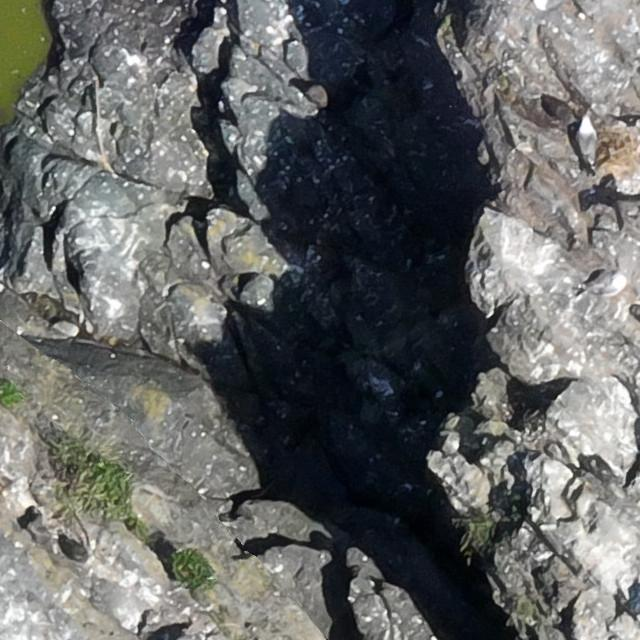umineko: (582, 273, 626, 297), (578, 122, 595, 160), (535, 0, 564, 9)
